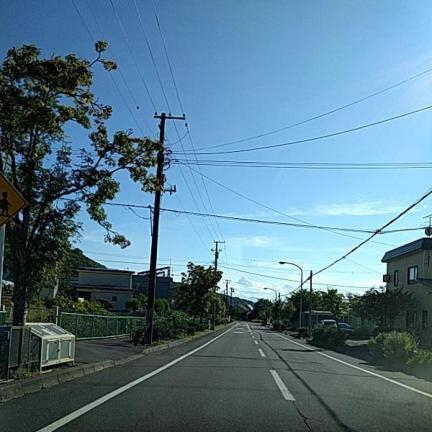Road: (0, 323, 431, 431)
